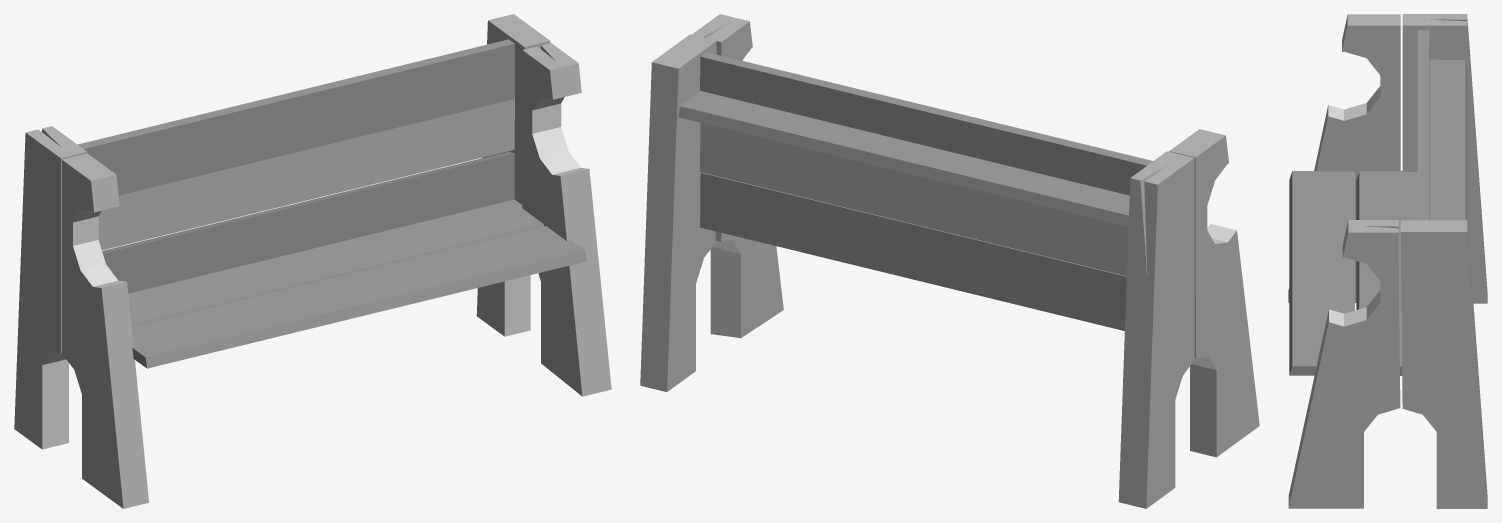
Rendered from PT_Church_Bench_01.fbx.
The picture shows the model from 3 angles, left to right: view 1: azimuth 30°, elevation 25°; view 2: azimuth 150°, elevation 25°; view 3: azimuth 270°, elevation 25°; orthographic projection. The views are drawn at different scales.
Visible parts, largest first — view 1: PT_Church_Bench_01; view 2: PT_Church_Bench_01; view 3: PT_Church_Bench_01.
Part boxes in pixels (<box>): PT_Church_Bench_01: <box>14,14,611,508</box>; PT_Church_Bench_01: <box>640,14,1259,508</box>; PT_Church_Bench_01: <box>1288,14,1487,508</box>.
Size of the model in its own units: 180 by 107 by 69.86.
